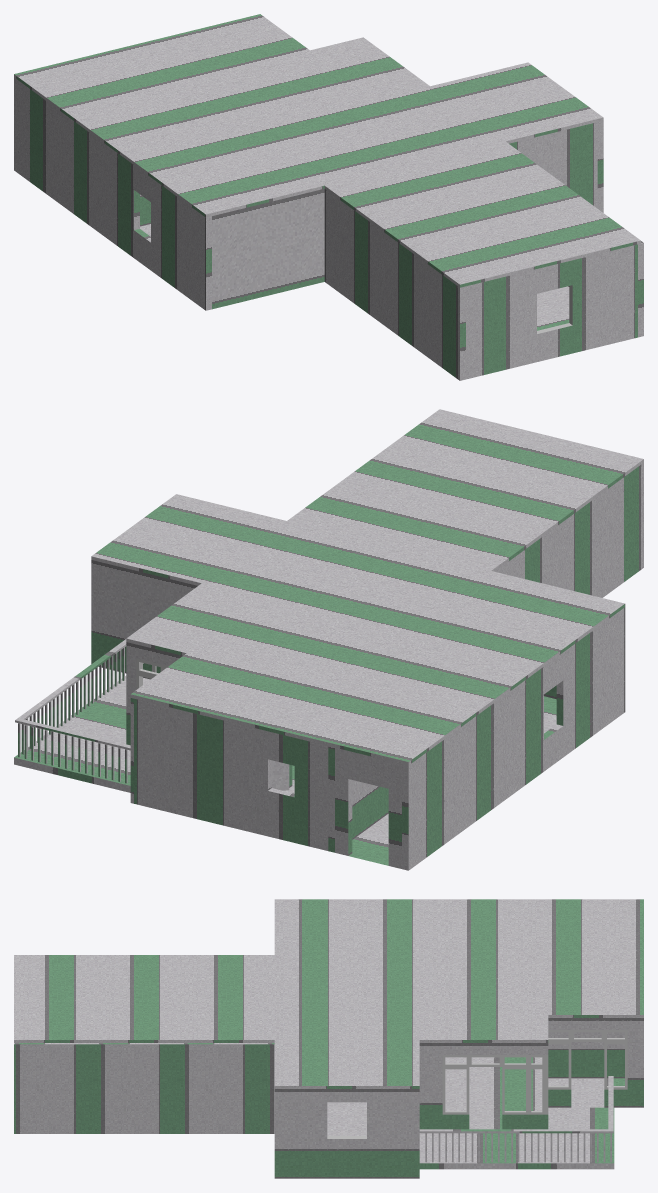
Rendered from Apartment_v01.fbx.
3 renders of one model, top to bottom at view 1: azimuth 30°, elevation 25°; view 2: azimuth 150°, elevation 25°; view 3: azimuth 270°, elevation 25°, orthographic. The views are drawn at different scales.
Visible parts, largest first — view 1: Roof, Wall8, Wall4, Wall5, Wall7, Wall1, Floor, Wall, Wall3; view 2: Roof, Wall8, Wall12, Wall5, Guardrail, Balcoony_Floor, Wall15, Wall11, Wall10, Balcoony_Wall, Floor, Wall; view 3: Roof, Wall3, Wall, Balcoony_Wall, Balcoony_Floor, Floor, Guardrail, Wall14.
Part boxes in pixels (bbox=[...]): Roof: bbox=[14, 14, 640, 287]; Wall8: bbox=[14, 77, 211, 310]; Wall4: bbox=[466, 244, 637, 379]; Wall5: bbox=[324, 189, 465, 380]; Wall7: bbox=[212, 189, 324, 309]; Wall1: bbox=[509, 122, 597, 208]; Floor: bbox=[140, 224, 569, 330]; Wall: bbox=[597, 120, 603, 212]; Wall3: bbox=[568, 241, 643, 337]; Roof: bbox=[91, 409, 643, 765]; Wall8: bbox=[402, 607, 625, 870]; Wall12: bbox=[134, 698, 328, 850]; Wall5: bbox=[495, 463, 643, 597]; Guardrail: bbox=[15, 639, 130, 783]; Balcoony_Floor: bbox=[14, 675, 150, 792]; Wall15: bbox=[98, 561, 197, 679]; Wall11: bbox=[335, 747, 401, 868]; Wall10: bbox=[328, 746, 388, 852]; Balcoony_Wall: bbox=[126, 642, 182, 803]; Floor: bbox=[283, 696, 556, 865]; Wall: bbox=[91, 560, 97, 663]; Roof: bbox=[14, 899, 643, 1088]; Wall3: bbox=[14, 1043, 274, 1133]; Wall: bbox=[274, 1089, 419, 1178]; Balcoony_Wall: bbox=[419, 1018, 643, 1129]; Balcoony_Floor: bbox=[419, 1107, 614, 1169]; Floor: bbox=[327, 1057, 624, 1135]; Guardrail: bbox=[419, 1076, 613, 1162]; Wall14: bbox=[548, 1032, 624, 1078].
Bounding box in the file's own units: 1340 × 330 × 1910.
